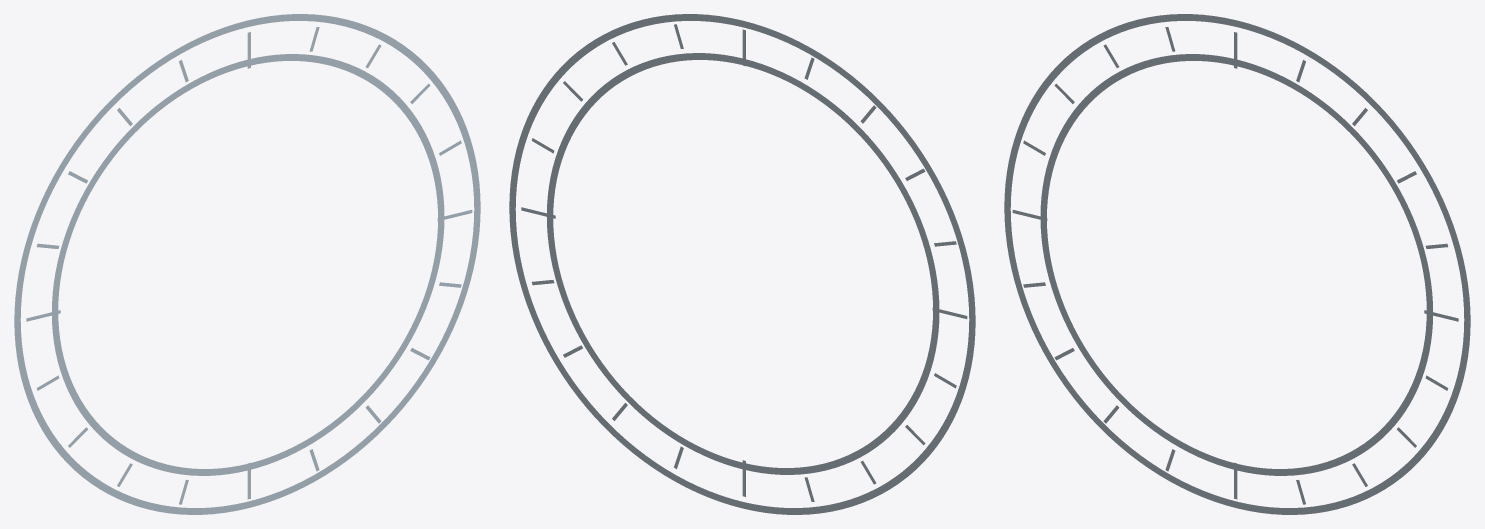
Rendered from Mona_StellarisPhantasm_CastOnly_OneCastAstrolabe.fbx.
3 renders of one model, left to right at view 1: azimuth 30°, elevation 25°; view 2: azimuth 150°, elevation 25°; view 3: azimuth 330°, elevation 25°, orthographic.
Parts seen in each view (by area): view 1: PART_CastAstrolabeRing_1, PART_CastAstrolabeRing_0; view 2: PART_CastAstrolabeRing_1, PART_CastAstrolabeRing_0; view 3: PART_CastAstrolabeRing_1, PART_CastAstrolabeRing_0.
Part boxes in pixels (x1,y1,x2,y2): PART_CastAstrolabeRing_1: (14, 14, 480, 514); PART_CastAstrolabeRing_0: (52, 54, 444, 475); PART_CastAstrolabeRing_1: (509, 14, 975, 514); PART_CastAstrolabeRing_0: (546, 53, 939, 474); PART_CastAstrolabeRing_1: (1004, 14, 1470, 514); PART_CastAstrolabeRing_0: (1040, 54, 1432, 475).
Bounding box in the file's own units: 203 × 203 × 1.3.
